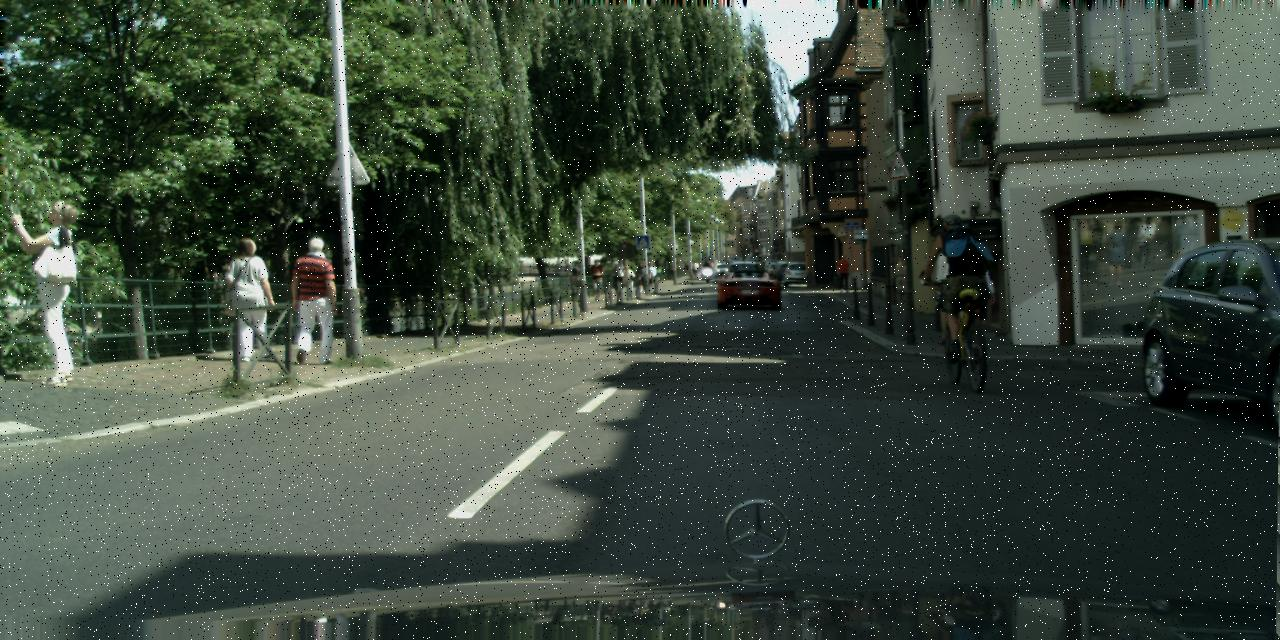ped: (26, 202, 100, 386), (933, 212, 988, 348), (288, 236, 340, 363), (226, 236, 277, 360), (939, 238, 982, 344), (568, 261, 586, 307), (588, 260, 605, 300), (836, 254, 850, 292), (612, 259, 626, 294), (620, 263, 634, 295), (646, 260, 656, 287), (636, 262, 646, 287), (692, 261, 699, 279), (703, 259, 708, 274)
